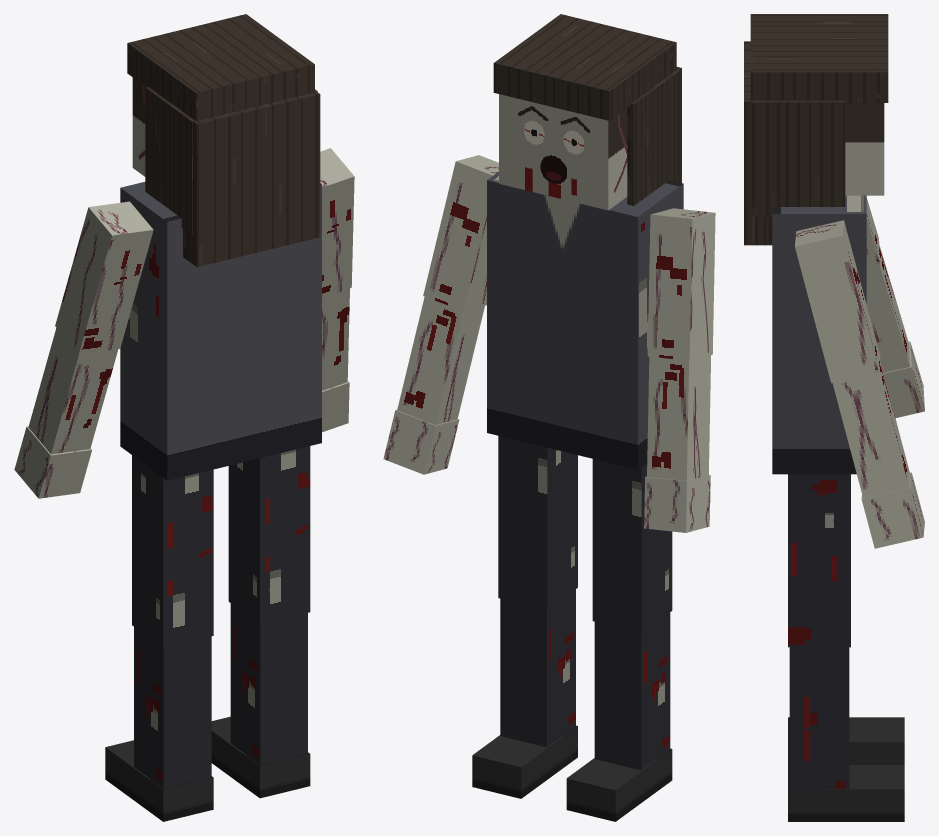
File: enraged_screamer.glb
3 views of the same model, side by side, from view 1: azimuth 30°, elevation 25°; view 2: azimuth 150°, elevation 25°; view 3: azimuth 270°, elevation 25° (orthographic). The views are drawn at different scales.
Parts seen in each view (by area): view 1: block_torso, block_hair-long, block_thigh.L, block_hair-cap, block_thigh.R, block_shin.L, block_shin.R, block_upper_arm.L, block_forearm.L, block_hair-lock, block_upper_arm.R, block_foot.L (+5 smaller); view 2: block_torso, block_hair-cap, block_thigh.R, block_head, block_thigh.L, block_shin.L, block_shin.R, block_upper_arm.L, block_forearm.L, block_upper_arm.R, block_forearm.R, block_hair-lock (+4 smaller); view 3: block_torso, block_hair-cap, block_thigh.R, block_hair-lock, block_shin.R, block_upper_arm.R, block_forearm.R, block_foot.R, block_head, block_forearm.L, block_hand.R, block_foot.L (+3 smaller).
Boxes of the visible parts, x1,y1,x2,y2 form: block_torso: (120,182,321,480); block_hair-long: (180,91,320,267); block_thigh.L: (132,455,213,647); block_hair-cap: (127,14,314,121); block_thigh.R: (228,446,310,624); block_shin.L: (134,627,211,788); block_shin.R: (230,603,307,764); block_upper_arm.L: (55,201,153,354); block_forearm.L: (28,328,118,454); block_hair-lock: (145,87,194,235); block_upper_arm.R: (320,148,354,297); block_foot.L: (105,740,213,821); block_torso: (487,171,683,469); block_hair-cap: (493,14,676,120); block_thigh.R: (498,436,577,609); block_head: (499,94,627,210); block_thigh.L: (592,459,672,632); block_shin.L: (594,612,670,770); block_shin.R: (500,589,575,747); block_upper_arm.L: (647,208,715,360); block_forearm.L: (647,355,711,480); block_upper_arm.R: (423,155,498,311); block_forearm.R: (397,297,484,424); block_hair-lock: (627,70,679,205); block_torso: (772,195,866,474); block_hair-cap: (750,14,888,102); block_thigh.R: (788,474,850,647); block_hair-lock: (751,100,845,216); block_shin.R: (789,647,849,788); block_upper_arm.R: (795,220,880,383); block_forearm.R: (832,361,909,498); block_foot.R: (788,765,904,821); block_head: (845,103,884,195); block_forearm.L: (866,245,909,372); block_hand.R: (861,472,924,548); block_foot.L: (788,717,904,764).
Bounding box in the file's own units: 0.802 × 1.83 × 0.4035.
Materials: 1 (1 with a texture image).
